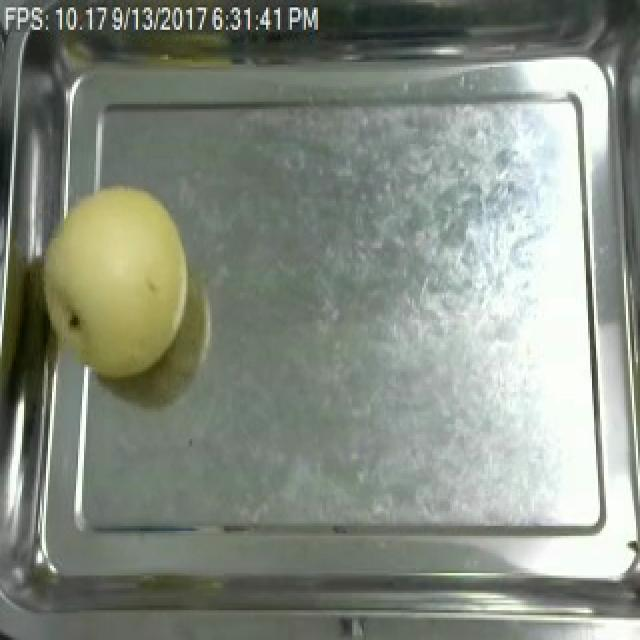Fruit: (24, 173, 200, 390)
